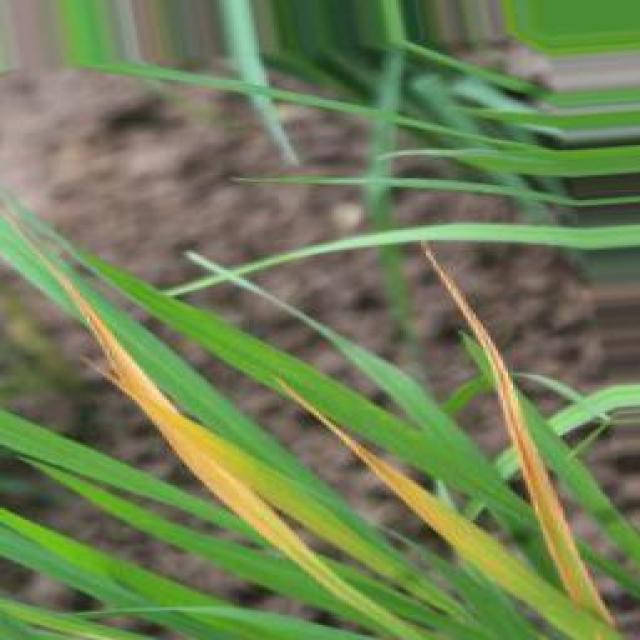Rice Tungro: (53, 266, 426, 640), (423, 242, 614, 623), (289, 390, 551, 609)
